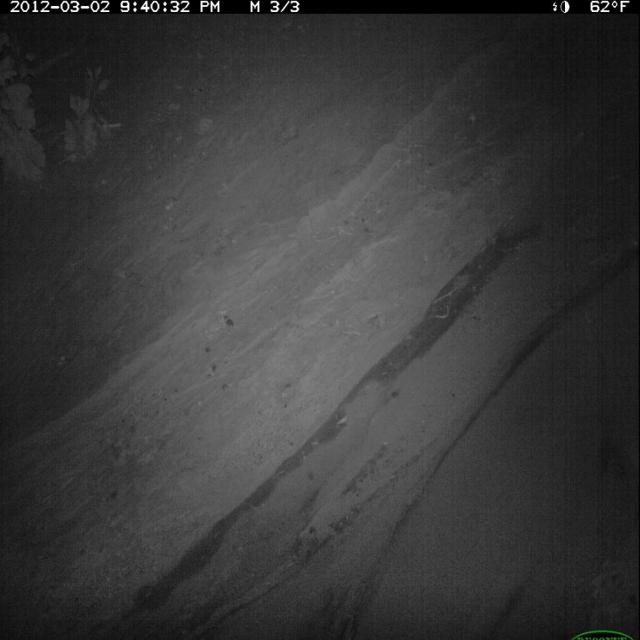opossum: (2, 3, 637, 640)
